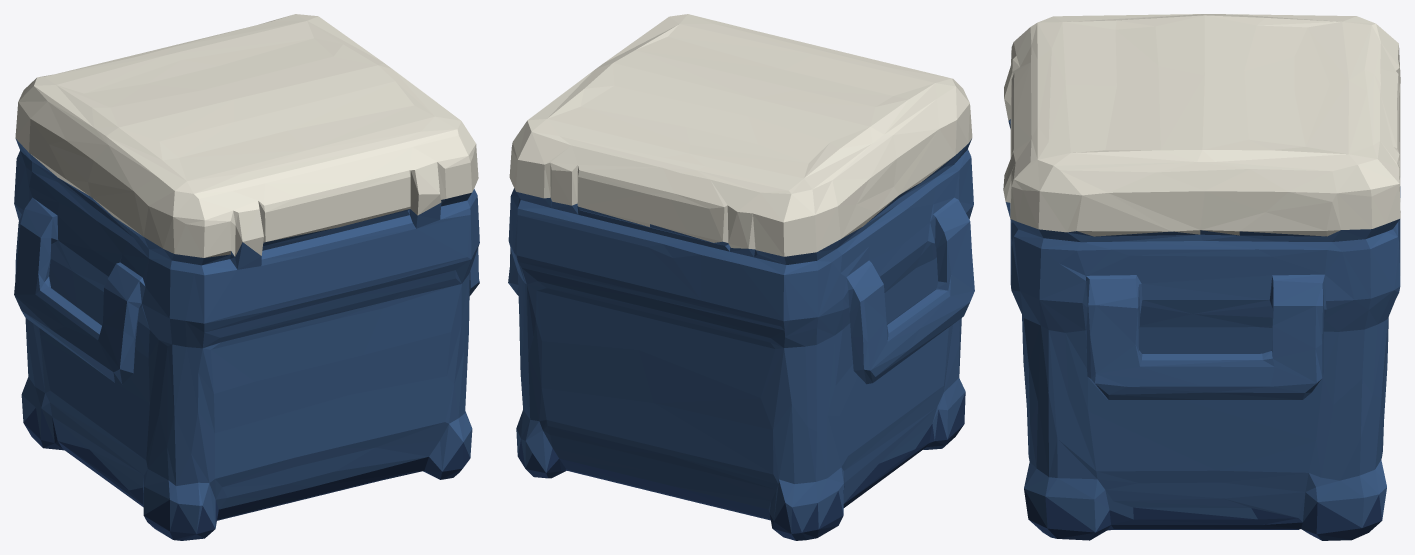
File: fridge_1.glb
3 renders of one model, left to right at view 1: azimuth 30°, elevation 25°; view 2: azimuth 150°, elevation 25°; view 3: azimuth 270°, elevation 25°, orthographic. The views are drawn at different scales.
Parts seen in each view (by area): view 1: fridge_1; view 2: fridge_1; view 3: fridge_1.
Part boxes in pixels (box(x1,y1,x2,y2)): fridge_1: box(14, 14, 479, 540); fridge_1: box(508, 14, 974, 540); fridge_1: box(1003, 14, 1400, 540).
Bounding box in the file's own units: 0.9 × 0.85 × 0.8.
